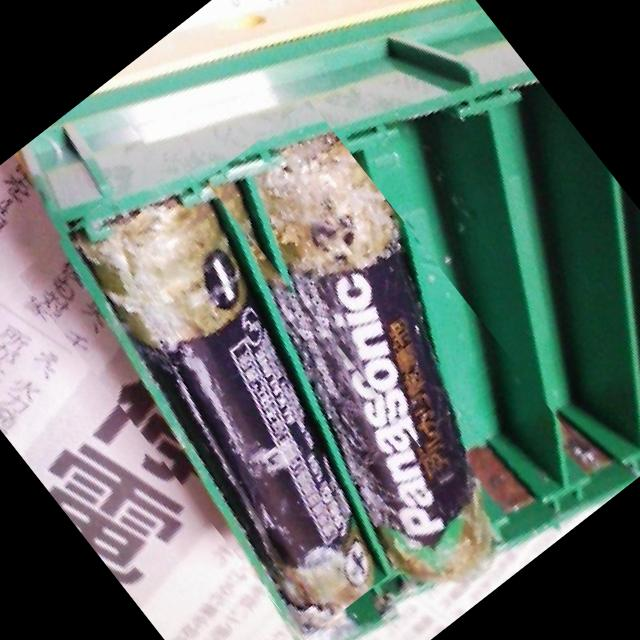Hazard: (132, 99, 606, 618), (9, 135, 469, 640)
